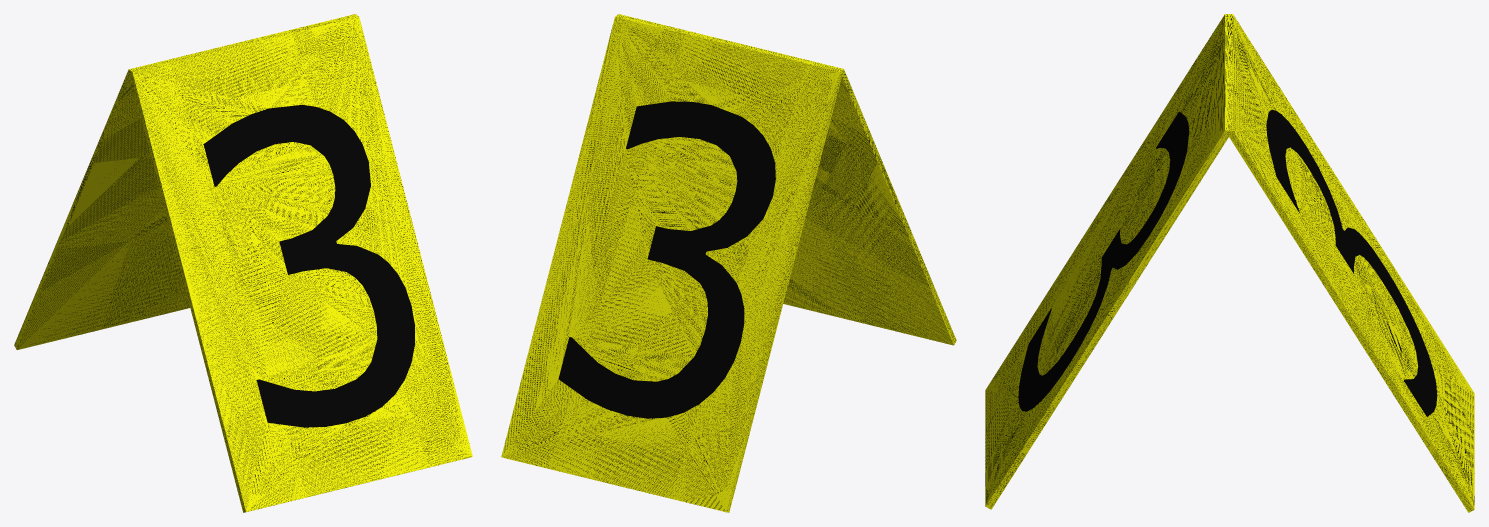
Rendered from C_Three.dae.
3 renders of one model, left to right at view 1: azimuth 30°, elevation 25°; view 2: azimuth 150°, elevation 25°; view 3: azimuth 270°, elevation 25°, orthographic. The views are drawn at different scales.
Visible parts, largest first — view 1: skp453F (×2); view 2: skp453F (×2); view 3: skp453F (×3).
Boxes of the visible parts, <box> form: skp453F (×2): <box>14,14,472,512</box>; skp453F (×2): <box>501,14,956,512</box>; skp453F (×3): <box>985,14,1474,512</box>.
Size of the model in its own units: 4 by 7.09 by 6.11.
